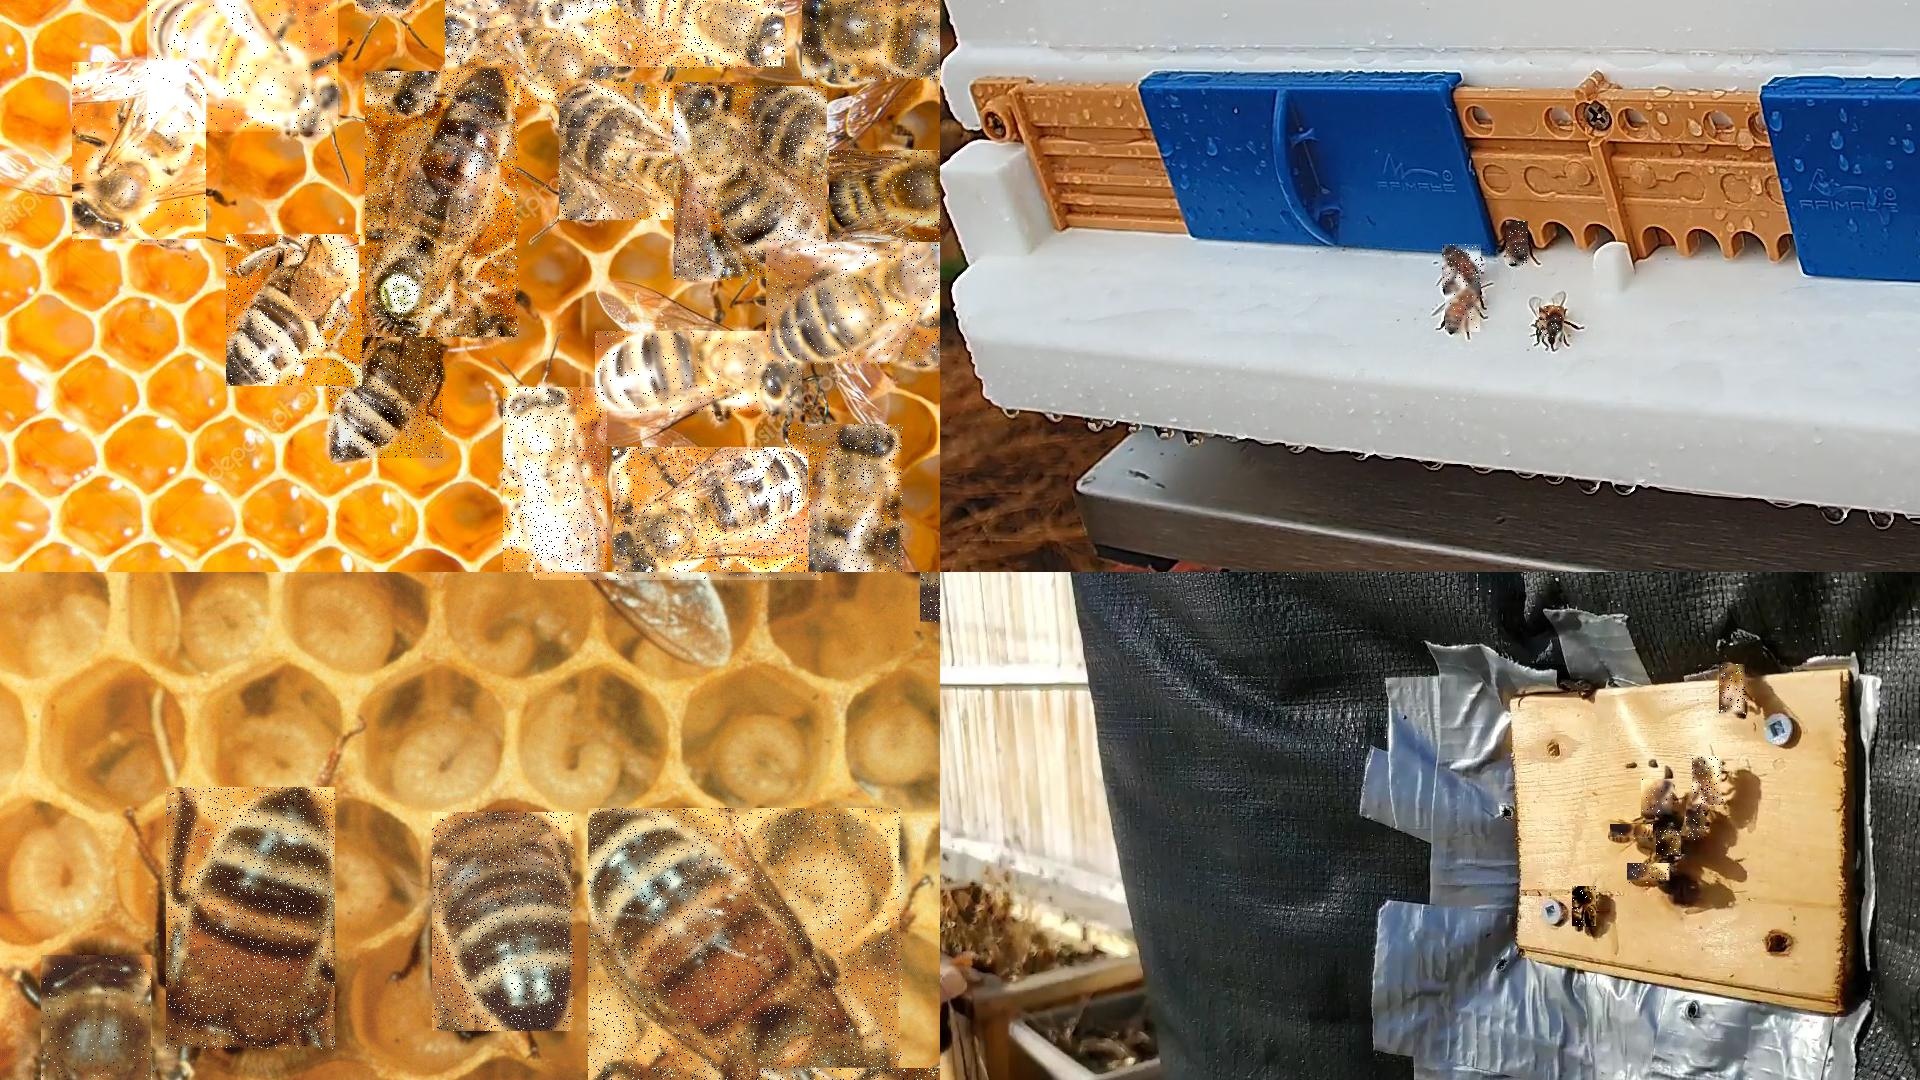bee: (588, 808, 905, 1079), (166, 787, 336, 1051), (433, 812, 576, 1033), (674, 87, 828, 282), (559, 82, 749, 222), (146, 1, 339, 135), (612, 447, 814, 571), (73, 62, 207, 244), (766, 243, 939, 367), (227, 235, 364, 388), (502, 386, 609, 571), (444, 0, 618, 109), (595, 332, 803, 415), (789, 425, 905, 571), (330, 313, 444, 459), (41, 955, 156, 1079), (596, 0, 787, 71), (802, 0, 939, 82), (829, 150, 939, 247), (829, 152, 939, 244), (458, 0, 560, 30), (1443, 245, 1482, 291), (1445, 286, 1481, 334), (1693, 757, 1725, 806), (1720, 665, 1749, 717), (1642, 779, 1676, 818), (1572, 887, 1597, 931), (1506, 222, 1528, 266), (1627, 864, 1673, 885), (1539, 307, 1565, 342), (1656, 827, 1683, 856), (1610, 824, 1654, 841), (1687, 804, 1706, 841)
queen: (365, 71, 520, 339)
